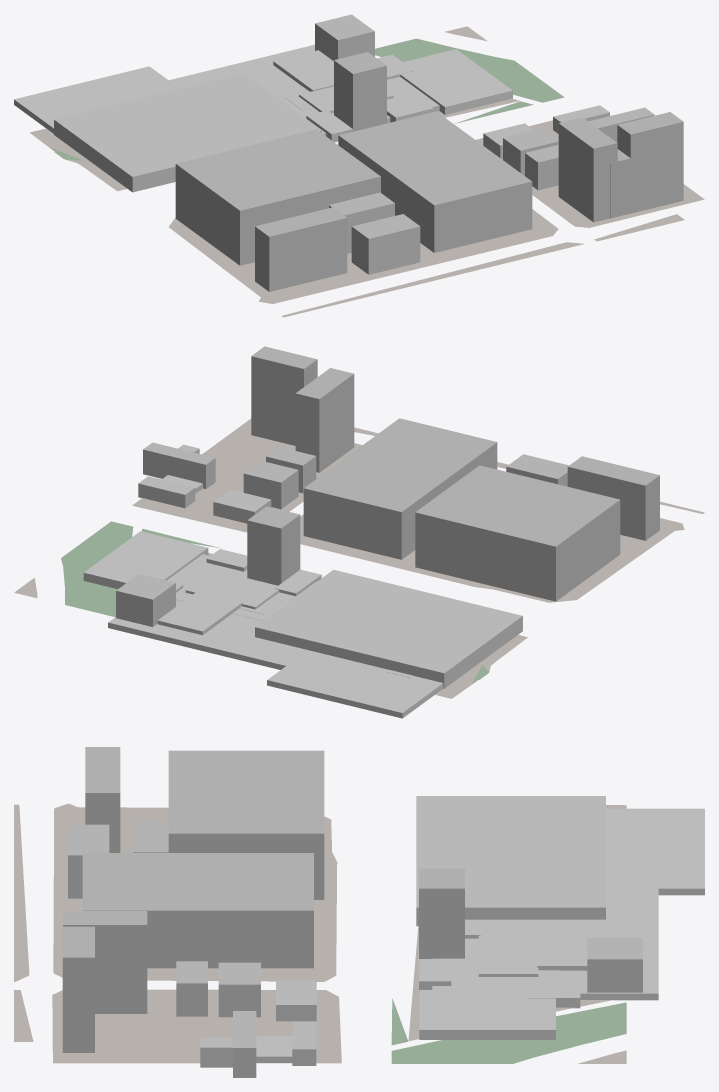
Rendered from 118_75_mid.glb.
3 renders of one model, top to bottom at view 1: azimuth 30°, elevation 25°; view 2: azimuth 150°, elevation 25°; view 3: azimuth 270°, elevation 25°, orthographic. The views are drawn at different scales.
Bounding box in the file's own units: 528 × 86.63 × 564.
